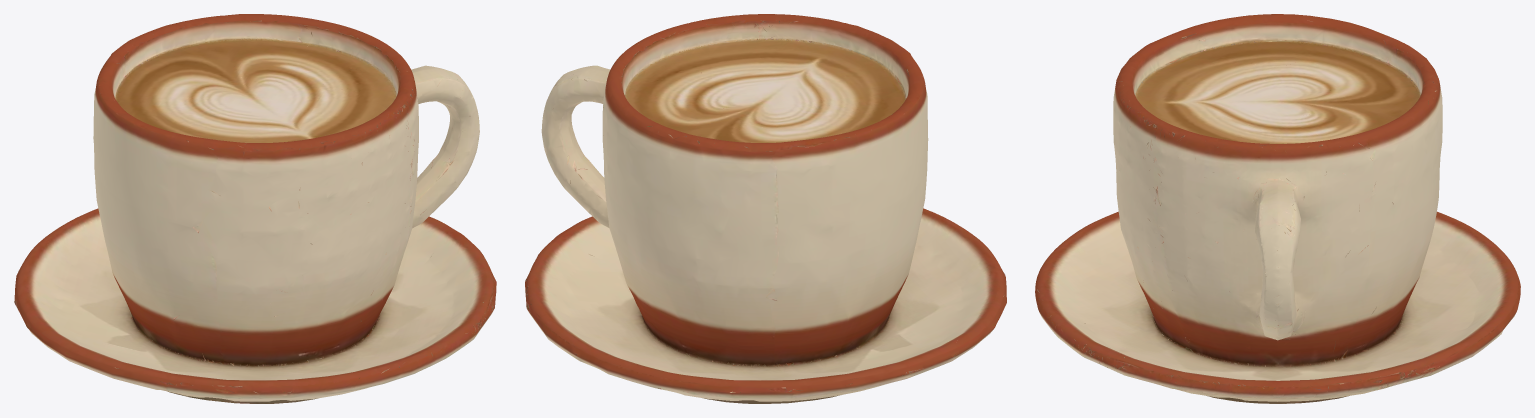
Rendered from cup.glb.
3 views of the same model, side by side, from view 1: azimuth 30°, elevation 25°; view 2: azimuth 150°, elevation 25°; view 3: azimuth 270°, elevation 25° (orthographic).
Visible parts, largest first — view 1: Mesh_0; view 2: Mesh_0; view 3: Mesh_0.
Boxes of the visible parts, bbox=[...] form: Mesh_0: bbox=[14, 14, 496, 403]; Mesh_0: bbox=[525, 14, 1006, 403]; Mesh_0: bbox=[1035, 14, 1520, 403].
Size of the model in its own units: 1.9 by 1.1 by 1.85.
Materials: 1 (1 with a texture image).
